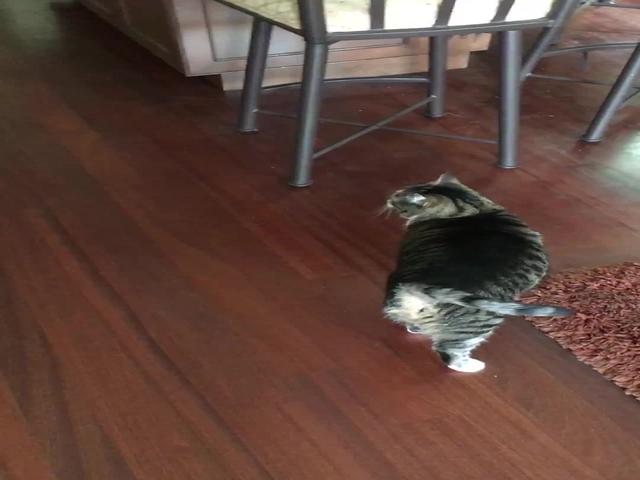playdoh: (382, 167, 569, 376)
